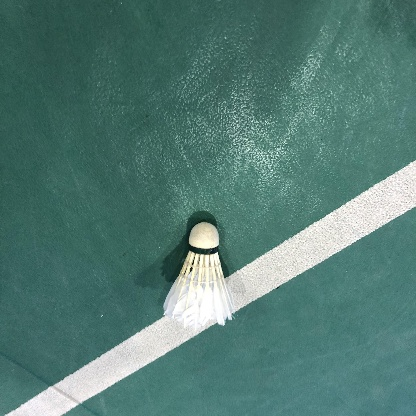ball_single: (163, 222, 235, 330)
